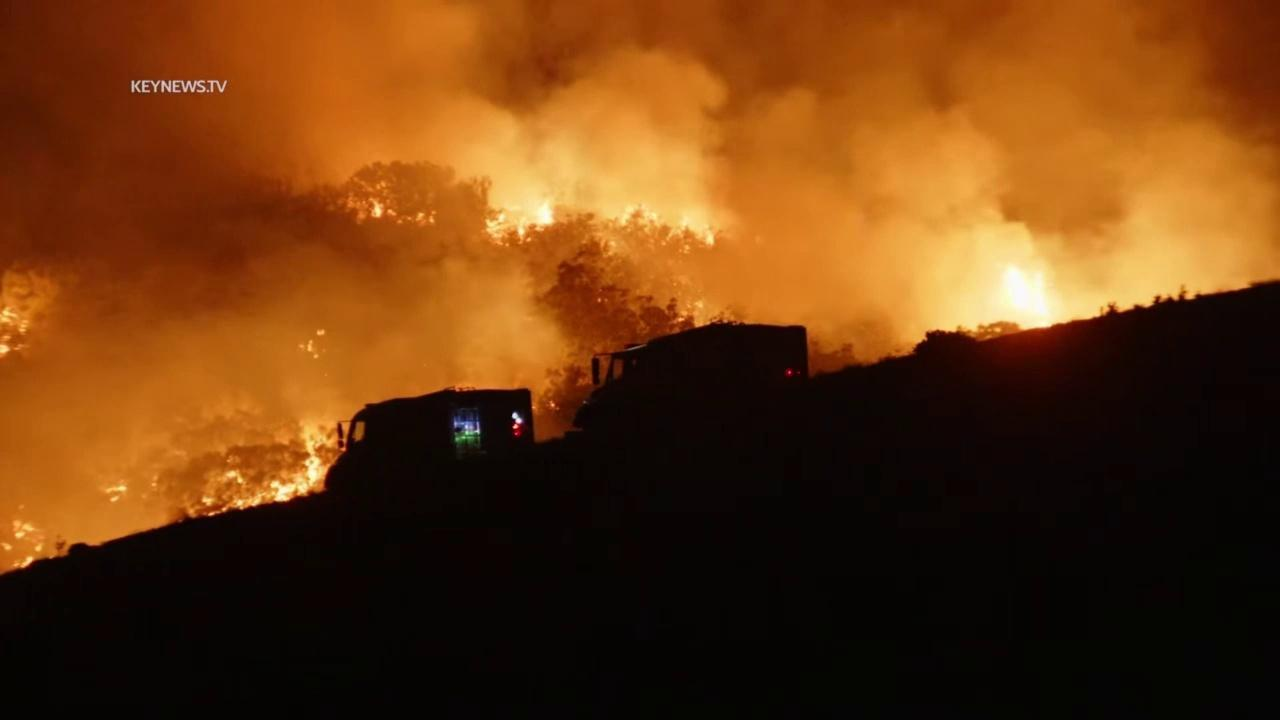fire: (199, 422, 330, 522), (987, 260, 1060, 335), (483, 195, 555, 249), (366, 198, 439, 226), (0, 303, 33, 358), (678, 212, 716, 247), (619, 202, 659, 235), (10, 517, 34, 541), (102, 481, 128, 503), (13, 555, 36, 571), (1, 542, 14, 553), (33, 542, 44, 554)
smoke: (0, 0, 1280, 585)
